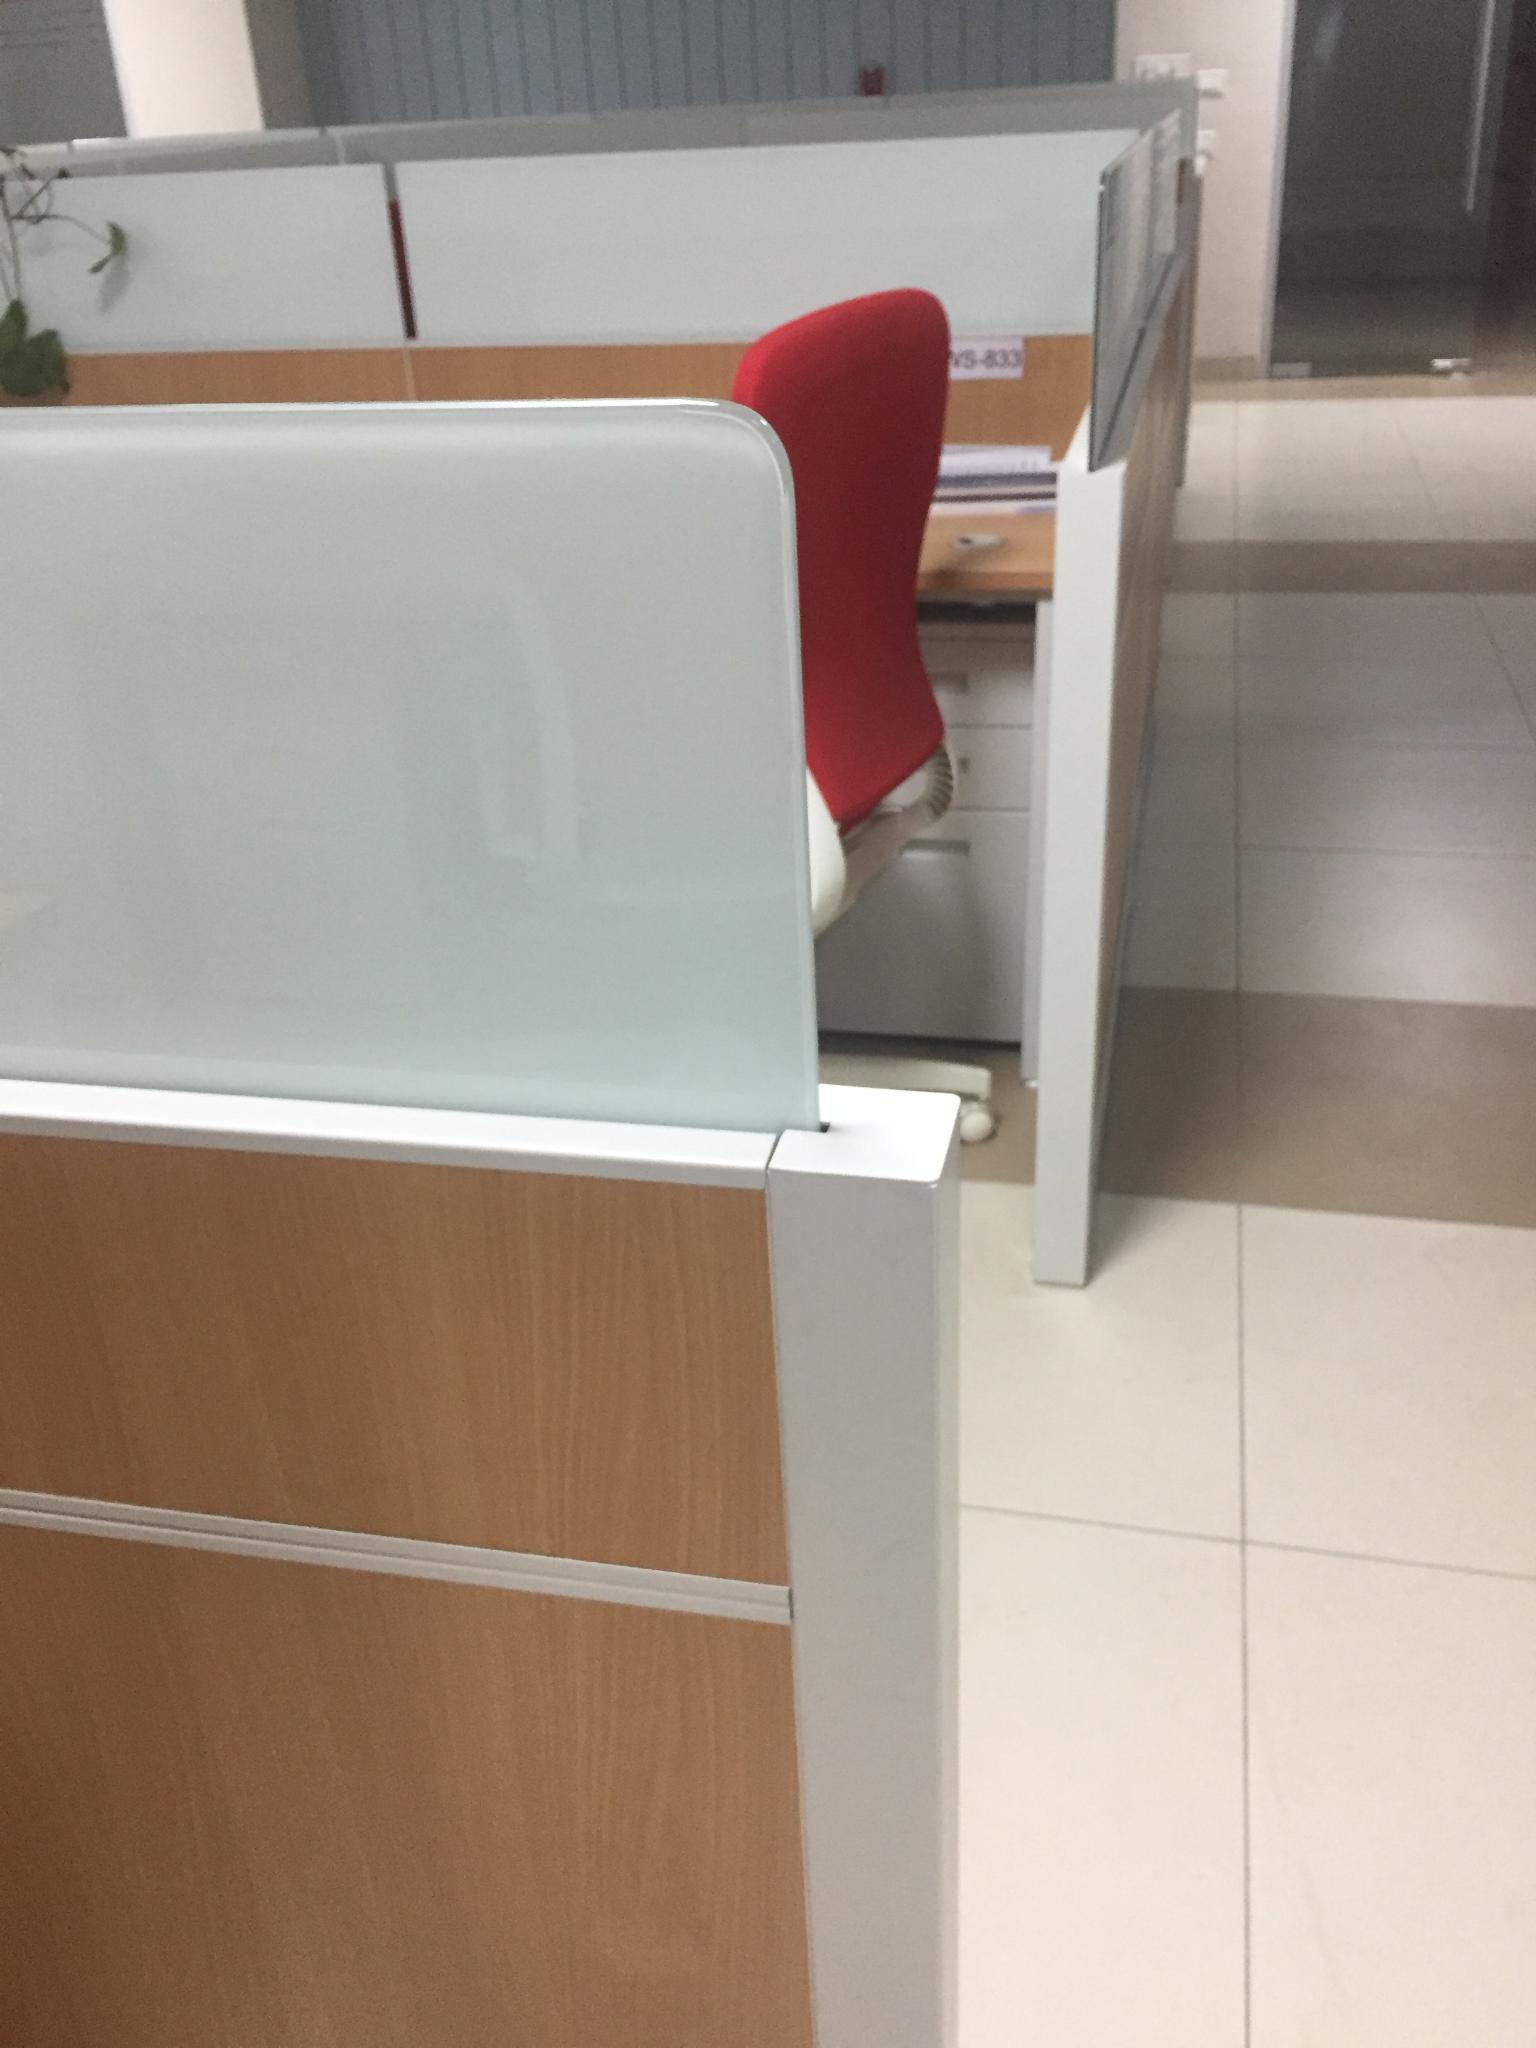chair: (598, 255, 1023, 1173)
